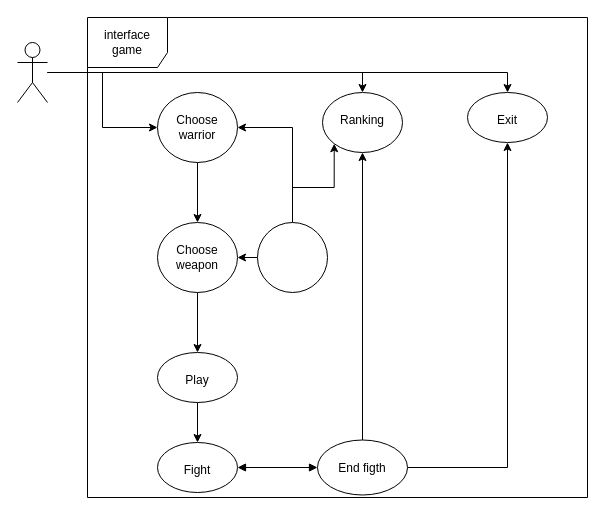
This 605x515 diagram has some shape labels left out. The centre of each missing label's shape, as x and y in pixels:
data base: point (292, 257)
User: point (32, 72)
